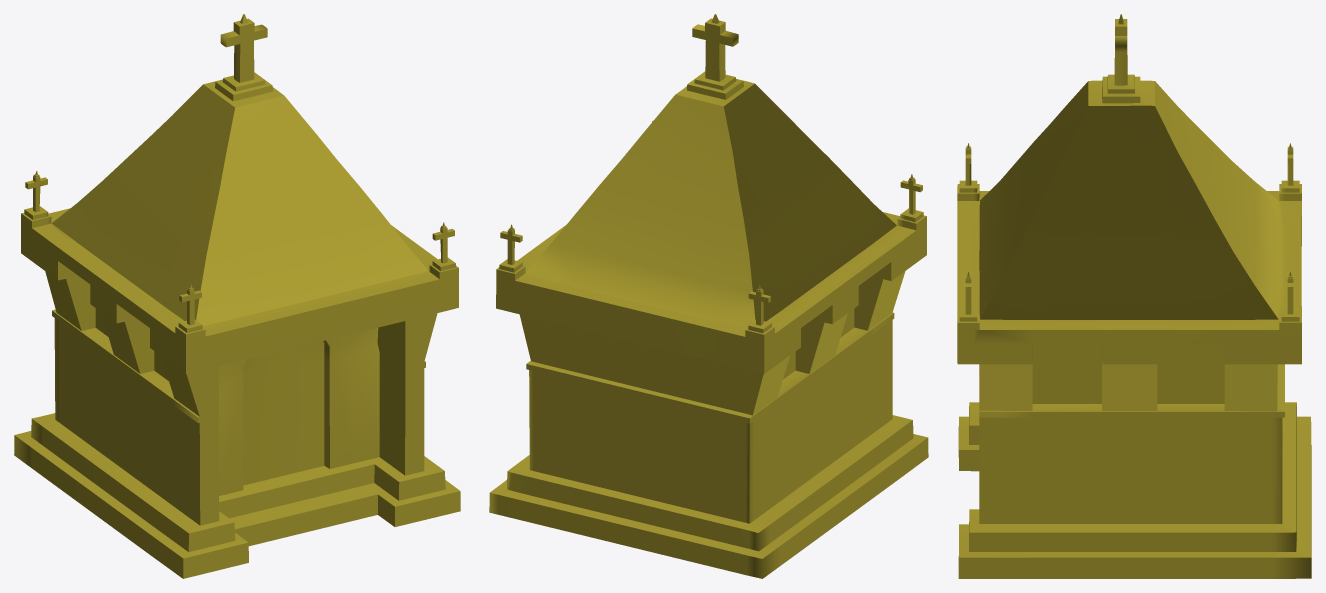
Rendered from cripta_texturizar.fbx.
3 renders of one model, left to right at view 1: azimuth 30°, elevation 25°; view 2: azimuth 150°, elevation 25°; view 3: azimuth 270°, elevation 25°, orthographic. The views are drawn at different scales.
Parts seen in each view (by area): view 1: Cripta001; view 2: Cripta001; view 3: Cripta001.
Boxes of the visible parts, bbox=[...] form: Cripta001: bbox=[14, 14, 460, 578]; Cripta001: bbox=[489, 14, 928, 578]; Cripta001: bbox=[957, 14, 1311, 578].
Size of the model in its own units: 8.83 by 14.38 by 9.35.
